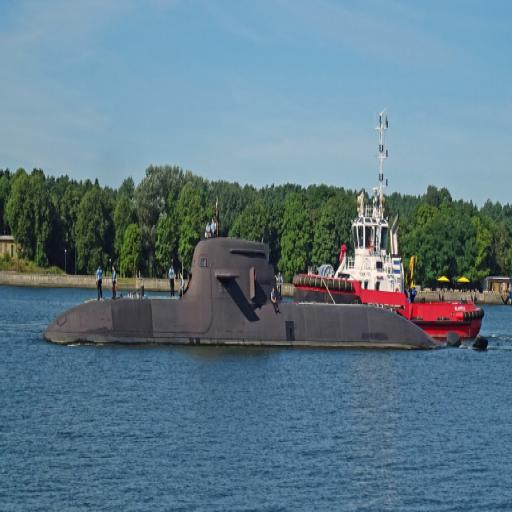submarine: (38, 231, 443, 355)
